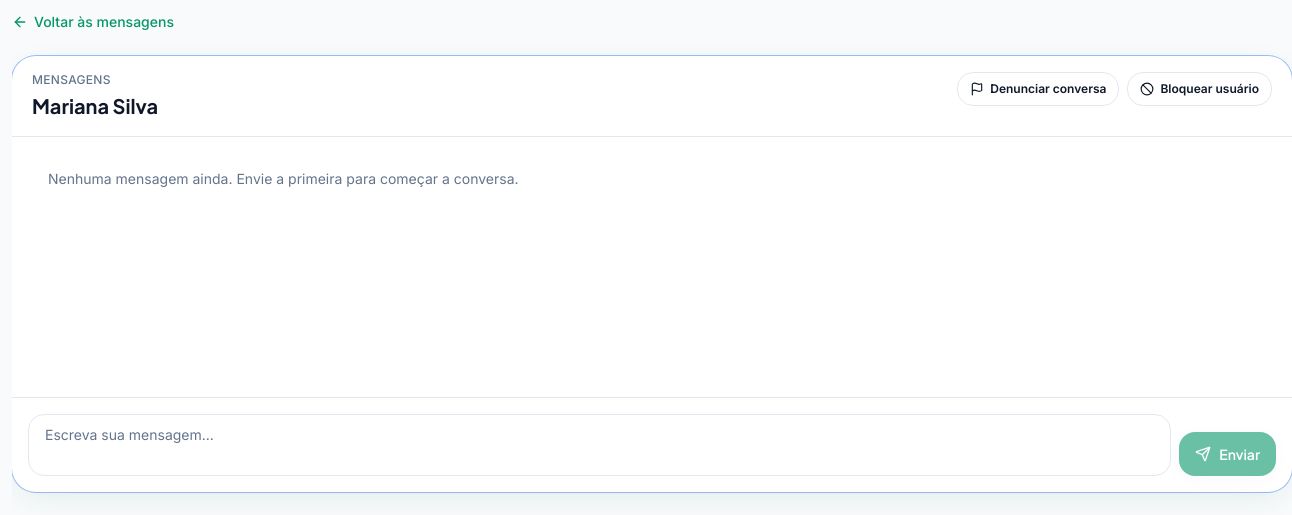
Test case: ConversationThread › shows a blocked-user error from sendMessage
The image size is (1292, 515).
In the text box labelled "Escreva sua mensagem": (600, 445) [28, 414, 1171, 476], type "Oi, professora!"
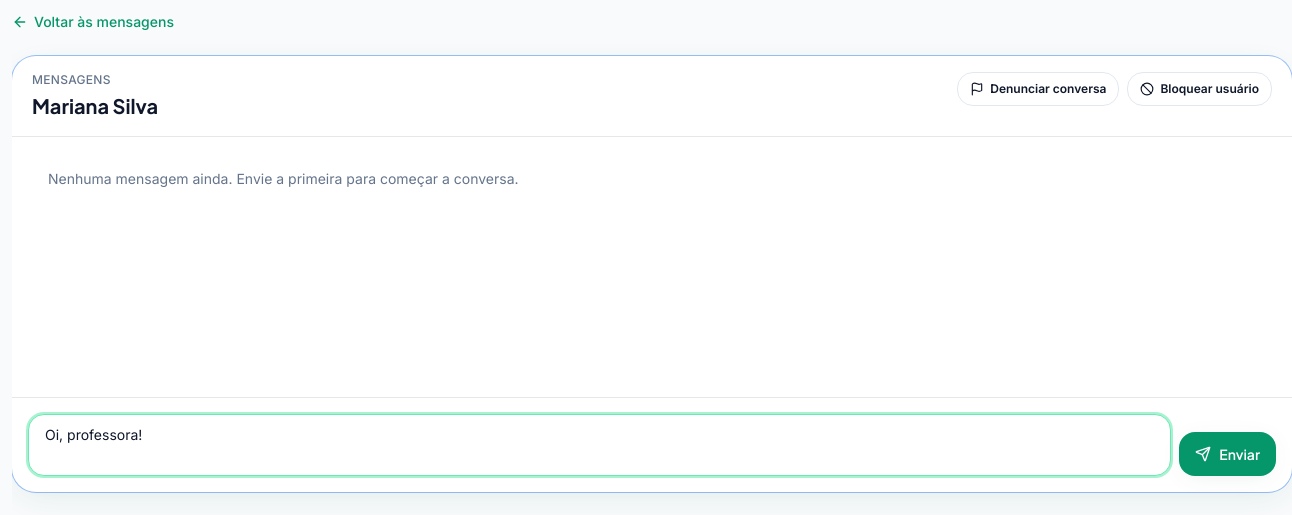
Click the button "Enviar": (1228, 454) [1179, 432, 1276, 476]
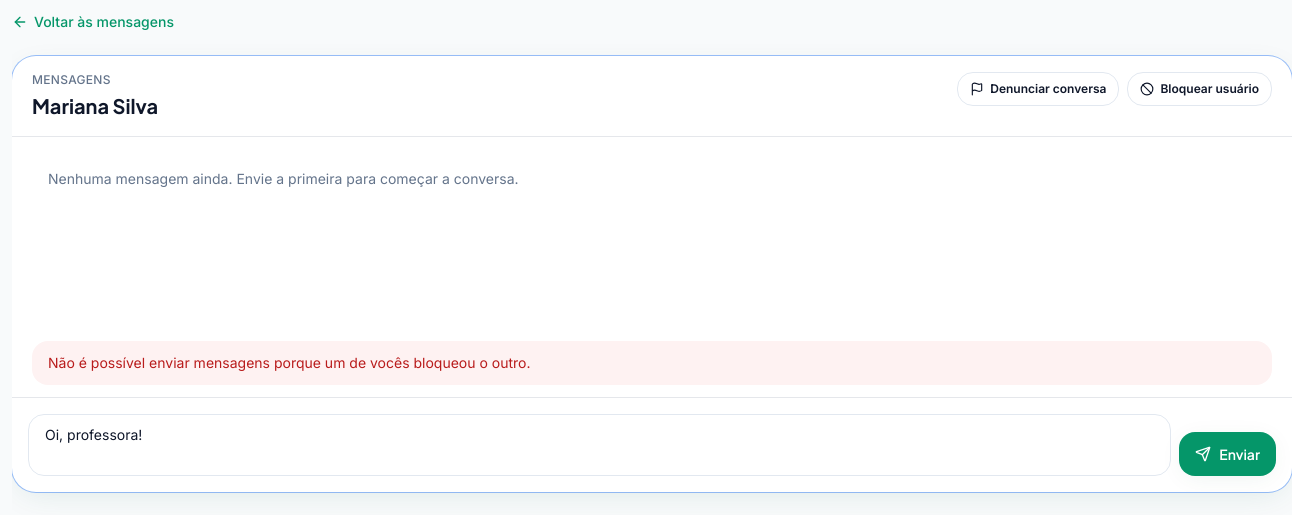
Check: the text "Não é possível enviar mensagens porque um de vocês bloqueou o outro." is shown, box [32, 341, 1272, 385]
